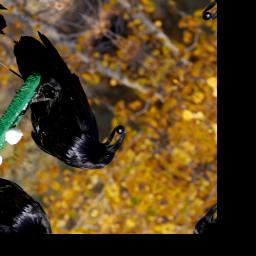Crow: (0, 24, 150, 187)
